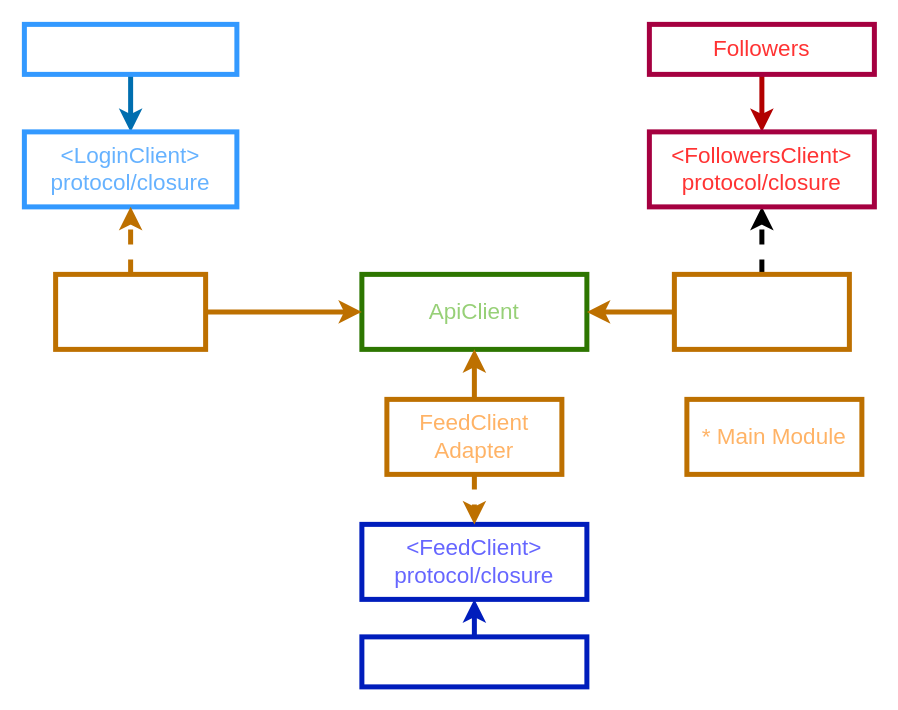
This 898x710 diagram has some shape labels left out. Here are the shapes that lost their labels. From the top down, the centre of each, then its label:
At [130,48]: "Login".
At [130,311]: "LoginClient Adapter".
At [761,311]: "Followers ClientAdapter".
At [474,661]: "Feed".
